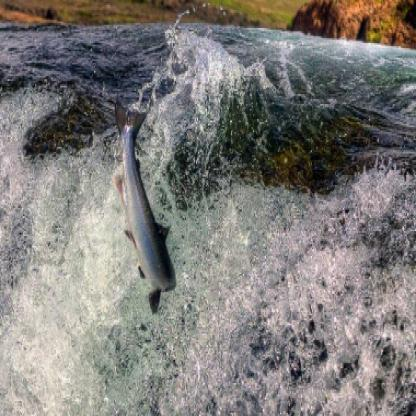fish: (113, 100, 176, 315)
